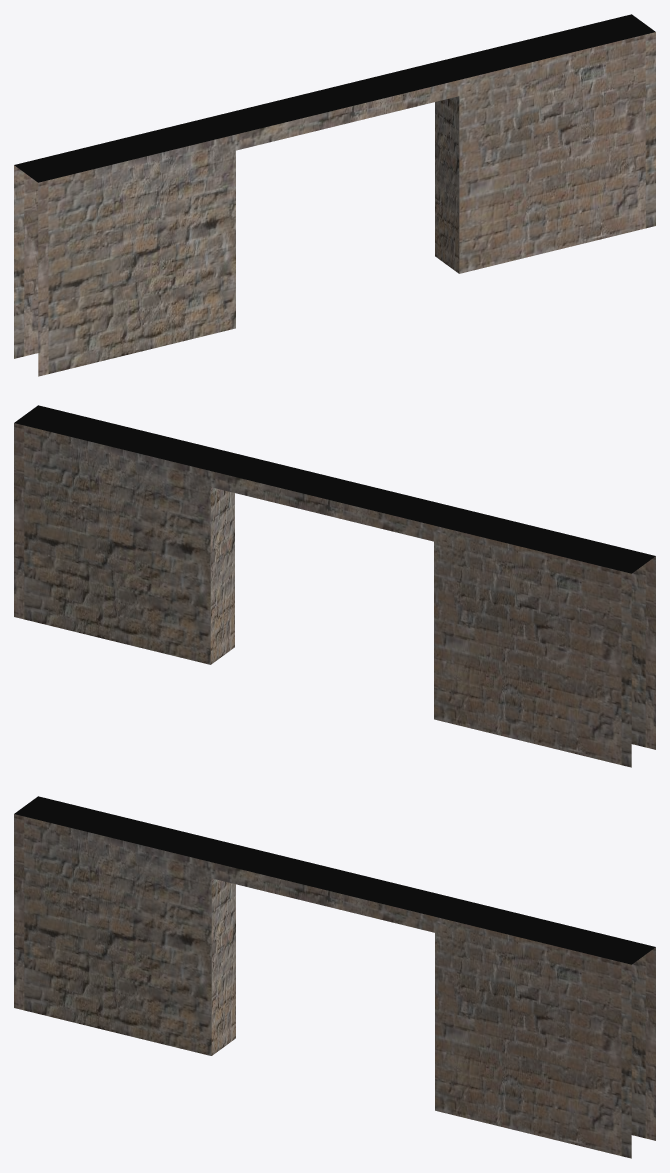
The model's file is doorway.FBX.
3 views of the same model, one above another, from view 1: azimuth 30°, elevation 25°; view 2: azimuth 150°, elevation 25°; view 3: azimuth 330°, elevation 25° (orthographic).
Parts seen in each view (by area): view 1: Box003; view 2: Box003; view 3: Box003.
Part boxes in pixels (x1=…): Box003: x1=14, y1=14, x2=655, y2=376; Box003: x1=14, y1=405, x2=655, y2=767; Box003: x1=14, y1=796, x2=655, y2=1158.
Bounding box in the file's own units: 394 × 118 × 26.71.
2 materials, 1 textured.
